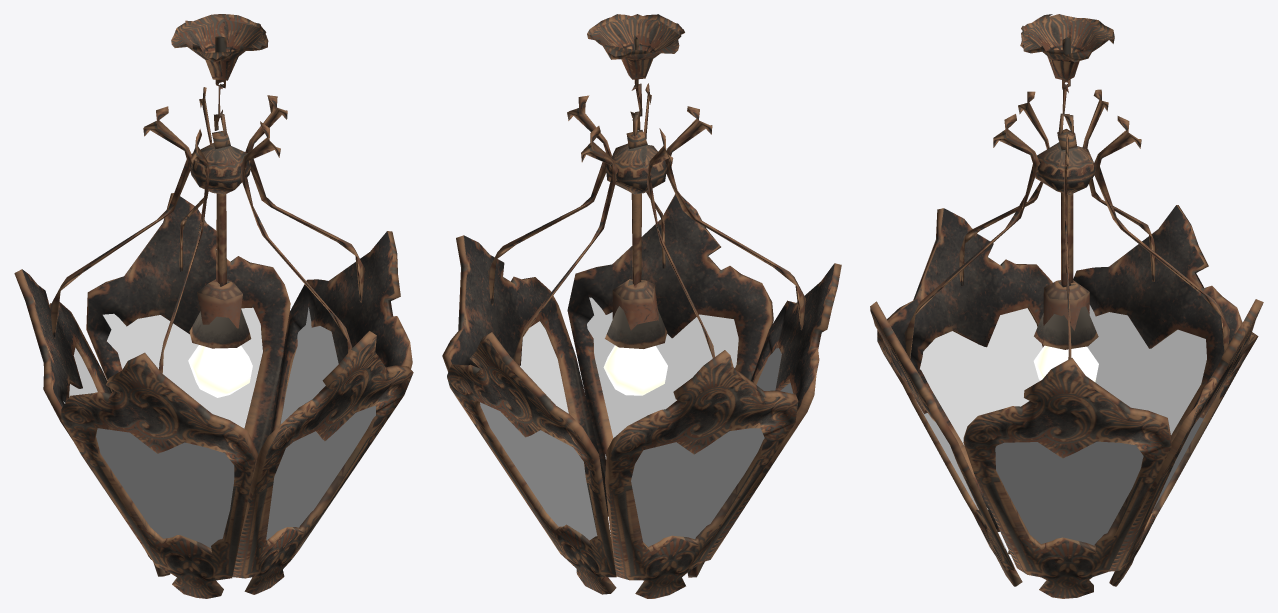
File: lantern_chandelier_01_1k_LOD2.fbx
3 renders of one model, left to right at view 1: azimuth 30°, elevation 25°; view 2: azimuth 150°, elevation 25°; view 3: azimuth 270°, elevation 25°, orthographic.
Visible parts, largest first — view 1: lantern_chandelier_01; view 2: lantern_chandelier_01; view 3: lantern_chandelier_01.
Part boxes in pixels (x1,y1,x2,y2): lantern_chandelier_01: (14,14,413,598); lantern_chandelier_01: (442,14,841,598); lantern_chandelier_01: (870,14,1263,598).
Bounding box in the file's own units: 57.77 × 87.63 × 57.01.
